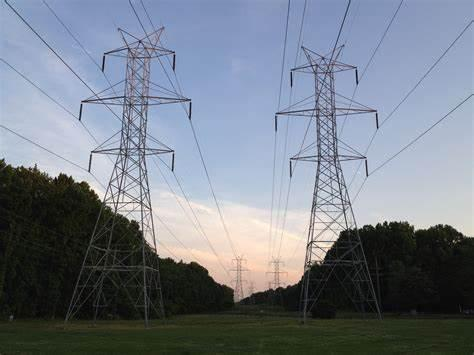power_tower: (270, 38, 406, 321), (61, 23, 189, 320)
